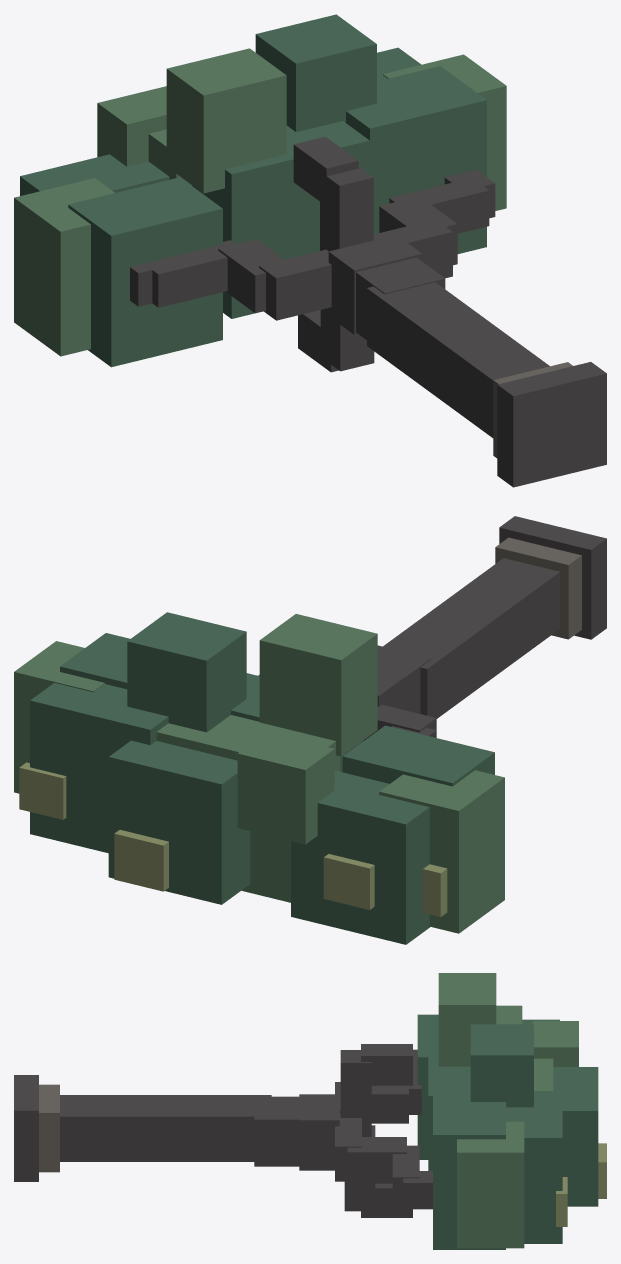
Rendered from gotham_large_tree.glb.
3 views of the same model, one above another, from view 1: azimuth 30°, elevation 25°; view 2: azimuth 150°, elevation 25°; view 3: azimuth 270°, elevation 25° (orthographic). The views are drawn at different scales.
Visible parts, largest first — view 1: Gotham_Large_Tree; view 2: Gotham_Large_Tree; view 3: Gotham_Large_Tree.
Boxes of the visible parts, x1,y1,x2,y2 form: Gotham_Large_Tree: (14, 14, 606, 487); Gotham_Large_Tree: (14, 516, 606, 944); Gotham_Large_Tree: (14, 973, 606, 1249).
Size of the model in its own units: 4.24 by 2.33 by 6.17.
